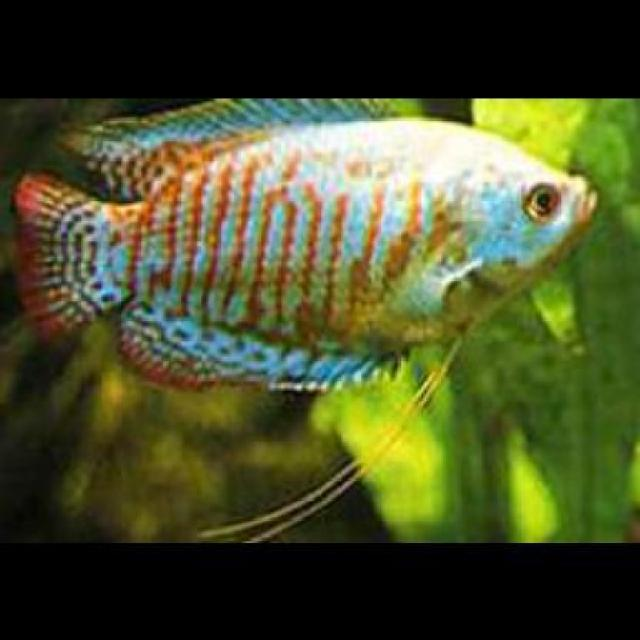Gourami: (17, 97, 601, 389)
